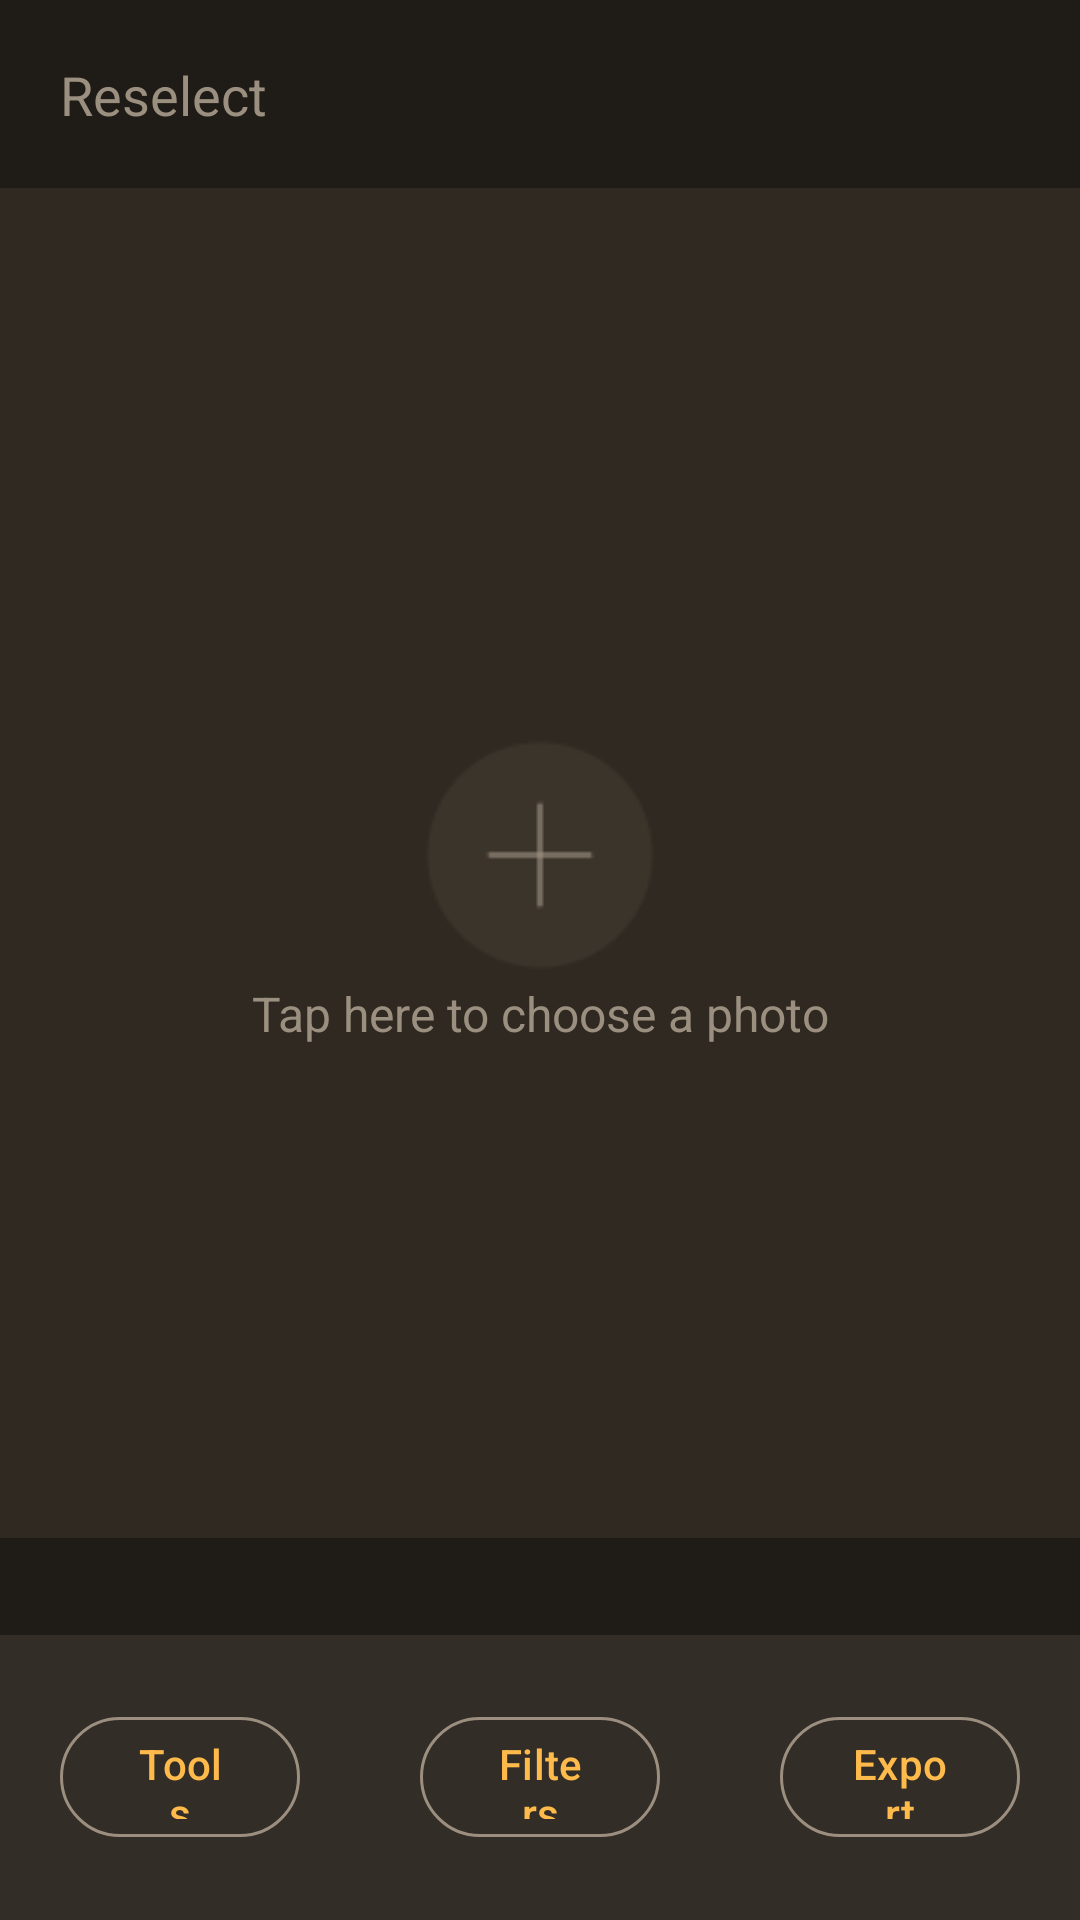

Locate icon controls on the screen. Image size 1080px x 1920px, boxes as (x1, y1, x2, y2).
add: (487, 802, 593, 908)
